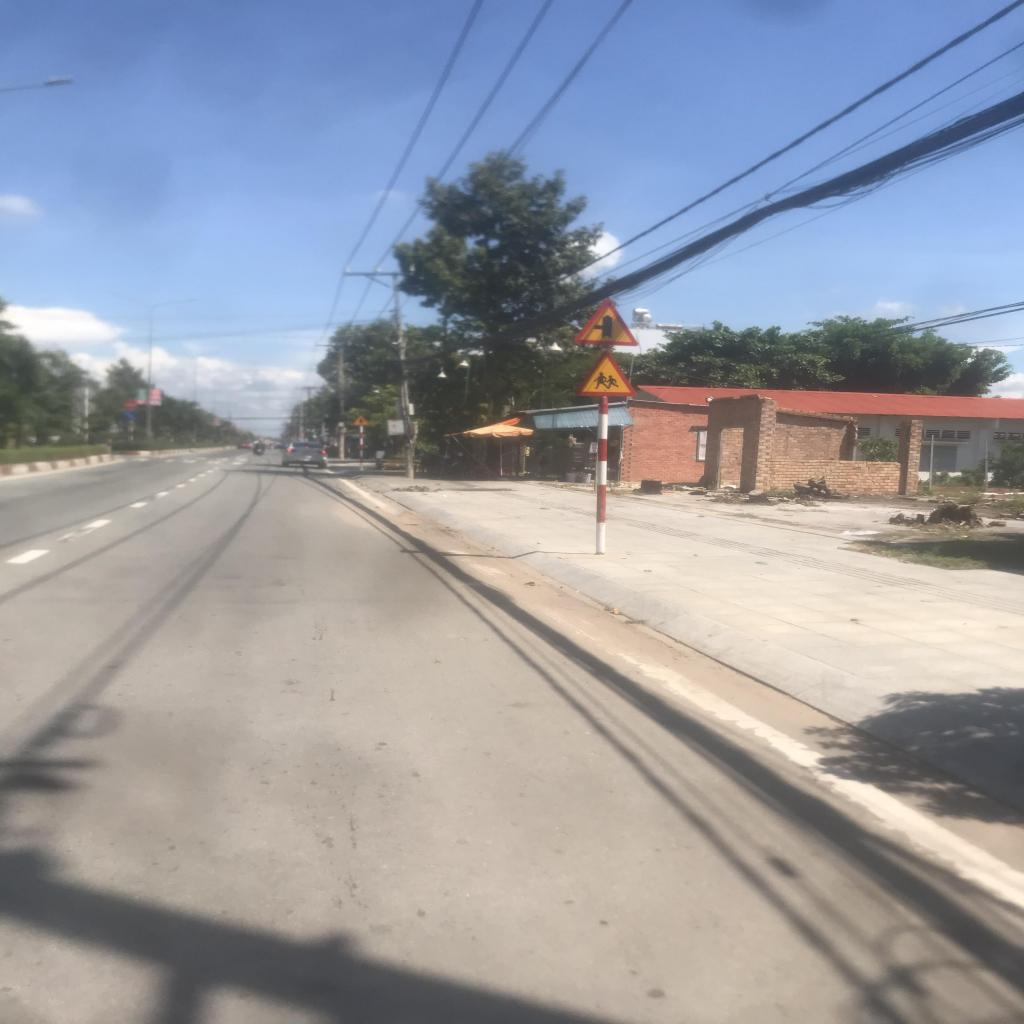cam_xe_di_nguoc_chieu: (124, 400, 138, 410)
chu_y_tre_em: (574, 350, 638, 395)
giao_nhau_voi_duong_khong_uu_tien: (572, 299, 642, 346), (352, 414, 369, 426)
huong_phai_di_vuot_chuong_ngai_vat_phai: (123, 410, 137, 421)
